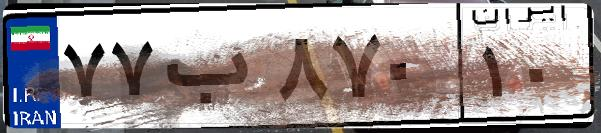0: (385, 28, 445, 110), (525, 38, 570, 115)
1: (475, 38, 525, 113)
7: (330, 28, 385, 110), (57, 26, 110, 100), (110, 28, 158, 98)
8: (270, 28, 330, 110)
ب: (158, 20, 270, 120)
